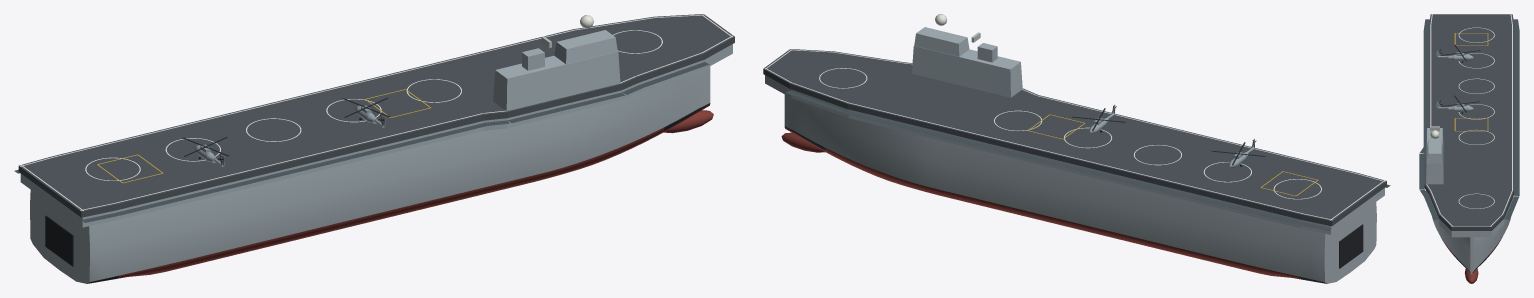
Rendered from fra_lhd_mistral.glb.
3 renders of one model, left to right at view 1: azimuth 30°, elevation 25°; view 2: azimuth 150°, elevation 25°; view 3: azimuth 270°, elevation 25°, orthographic. The views are drawn at different scales.
Visible parts, largest first — view 1: naval_paint, flight_deck, antifouling, deck_non_skid, marking_white, rubber, airframe; view 2: naval_paint, flight_deck, antifouling, marking_white, deck_non_skid, rubber, airframe; view 3: flight_deck, naval_paint, deck_non_skid, marking_white, airframe, marking_yellow, antifouling, rubber.
Part boxes in pixels (bbox=[...]): naval_paint: bbox=[20, 30, 732, 283]; flight_deck: bbox=[18, 14, 734, 217]; antifouling: bbox=[117, 104, 713, 278]; deck_non_skid: bbox=[14, 62, 709, 222]; marking_white: bbox=[20, 14, 732, 211]; rubber: bbox=[45, 97, 389, 266]; airframe: bbox=[194, 105, 385, 166]; naval_paint: bbox=[765, 27, 1384, 283]; flight_deck: bbox=[763, 49, 1386, 226]; antifouling: bbox=[781, 127, 1300, 279]; marking_white: bbox=[765, 49, 1385, 220]; deck_non_skid: bbox=[785, 90, 1390, 230]; rubber: bbox=[1072, 106, 1363, 268]; airframe: bbox=[1089, 104, 1254, 167]; flight_deck: bbox=[1424, 14, 1514, 230]; naval_paint: bbox=[1425, 128, 1513, 274]; deck_non_skid: bbox=[1419, 19, 1519, 219]; marking_white: bbox=[1426, 14, 1512, 226]; airframe: bbox=[1436, 50, 1473, 111]; marking_yellow: bbox=[1454, 33, 1488, 131]; antifouling: bbox=[1441, 237, 1502, 283]; rubber: bbox=[1435, 44, 1480, 113].
Size of the model in its own units: 10 by 2.37 by 1.98.
